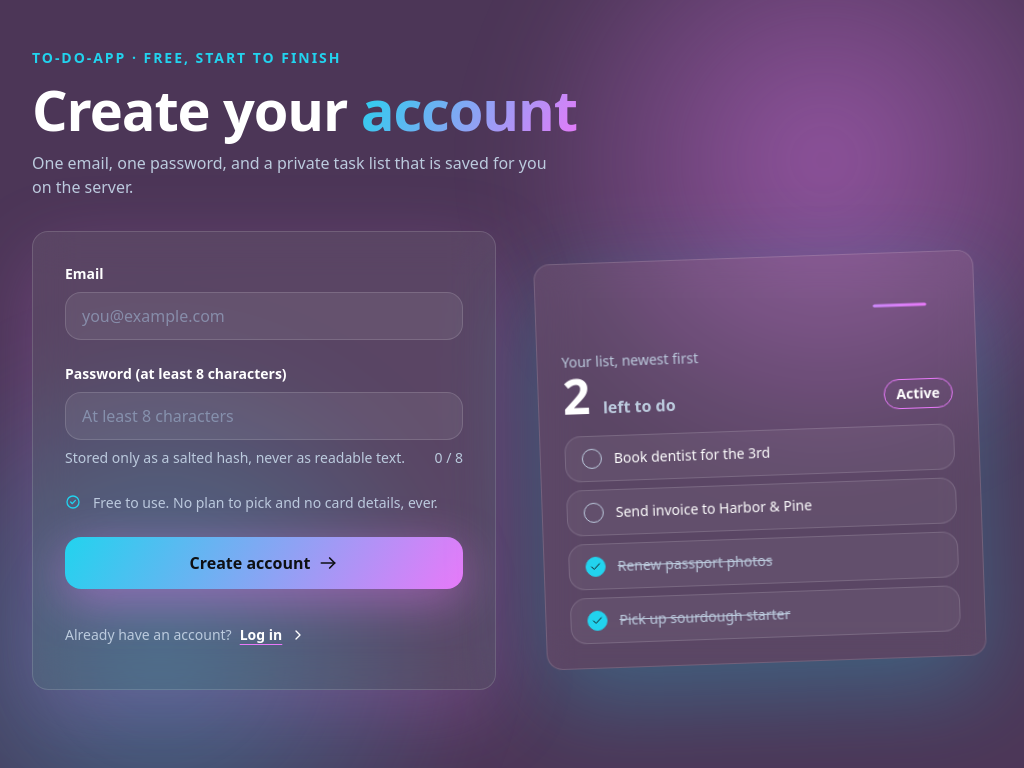
Test case: Signup › [AC-009] both messages at once
Type "bad" into the field labelled "Email". click: (264, 316)
box: [65, 292, 463, 340]
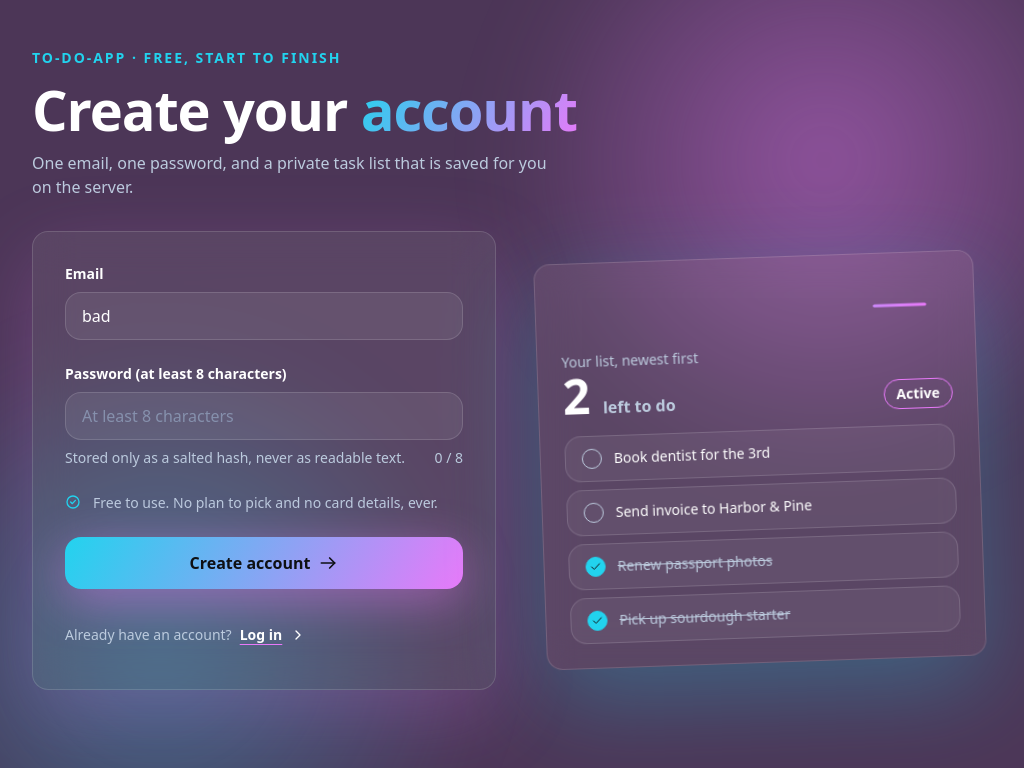
Type "short" into the password field labelled "Password (at least 8 characters)". click: (264, 416)
box: [65, 392, 463, 440]
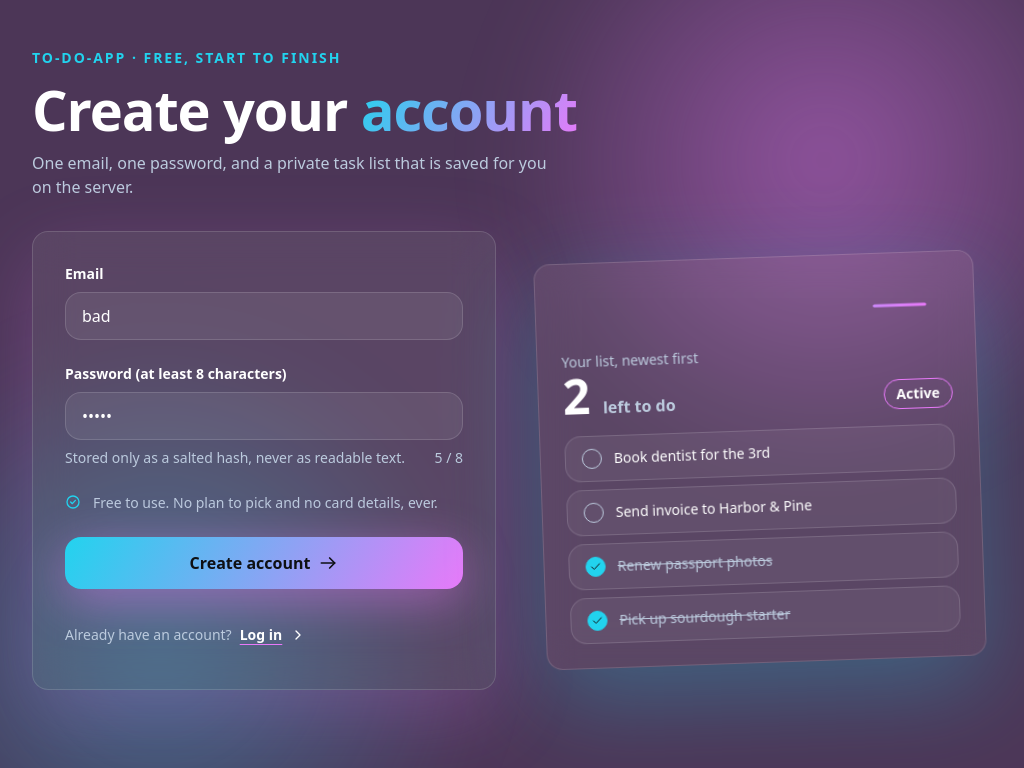
Click the button "Create account". click: (264, 563)
box: [65, 537, 463, 589]
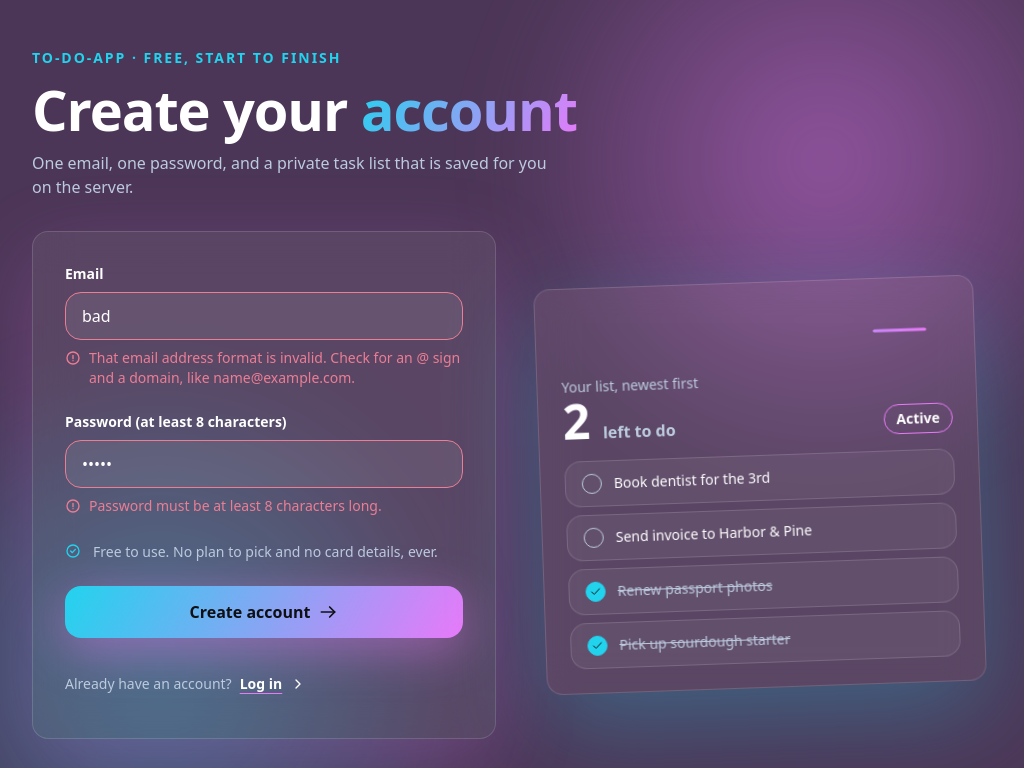
Now the text "format is invalid" is shown, box [89, 348, 460, 387]
Now the text "Password must be at least 8 characters long." is shown, box [89, 496, 382, 517]
